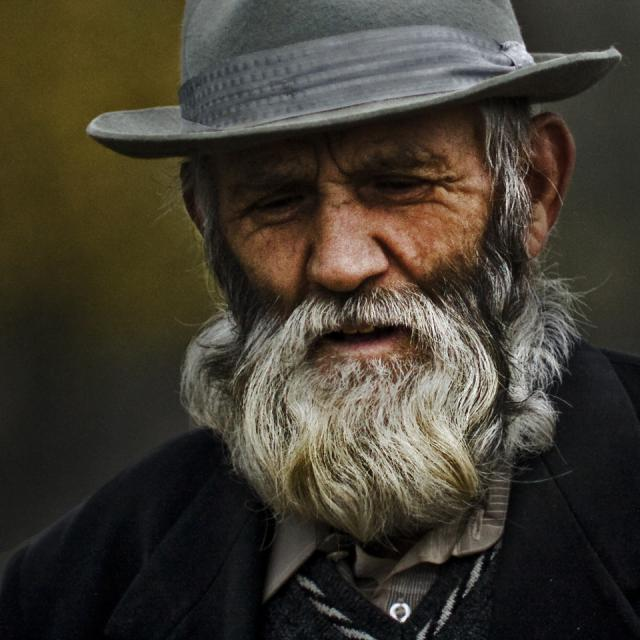earlobe: (501, 212, 537, 266)
eye: (367, 172, 429, 195), (252, 191, 308, 216)
nose: (307, 272, 388, 318)
wholeear: (502, 112, 576, 265)
